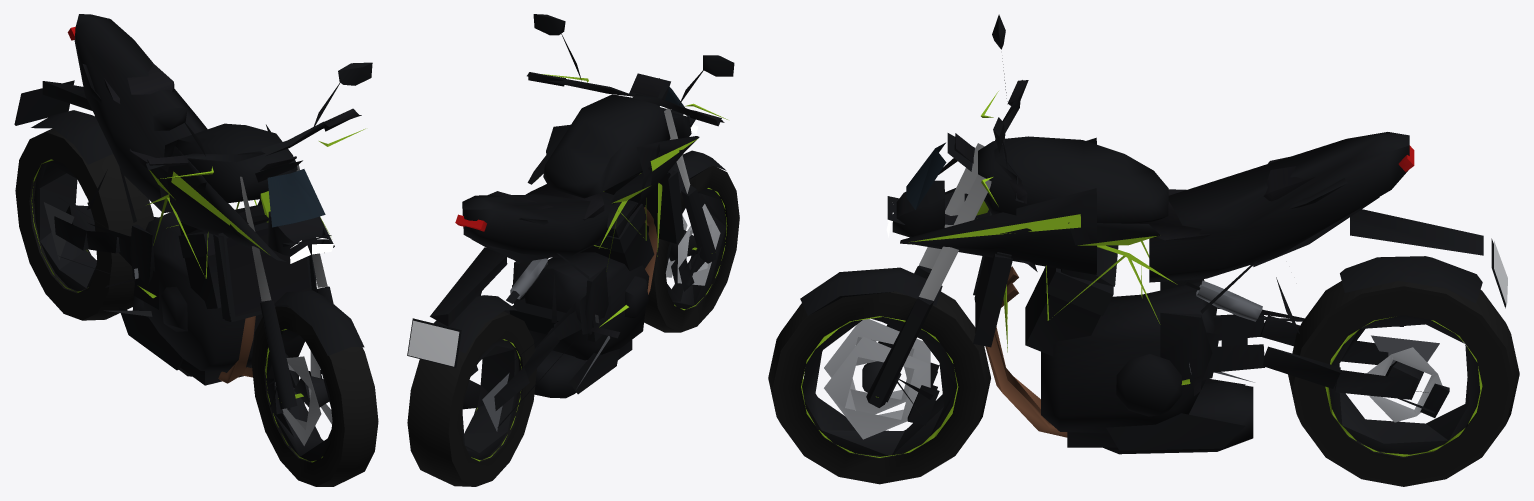
The model's file is bike01_z650.glb.
The picture shows the model from 3 angles, left to right: view 1: azimuth 30°, elevation 25°; view 2: azimuth 150°, elevation 25°; view 3: azimuth 270°, elevation 25°; orthographic projection. The views are drawn at different scales.
Visible parts, largest first — view 1: body, wheel_rear, wheel_front; view 2: body, wheel_rear, wheel_front; view 3: body, wheel_rear, wheel_front.
Part boxes in pixels (<box>): body: <box>14,14,372,414</box>; wheel_rear: <box>15,128,153,320</box>; wheel_front: <box>251,306,378,486</box>; body: <box>407,14,734,427</box>; wheel_rear: <box>407,311,536,486</box>; wheel_front: <box>644,165,739,332</box>; body: <box>800,14,1507,454</box>; wheel_rear: <box>1288,281,1519,486</box>; wheel_front: <box>768,290,990,484</box>.
Bounding box in the file's own units: 0.781 × 1.21 × 2.02.
